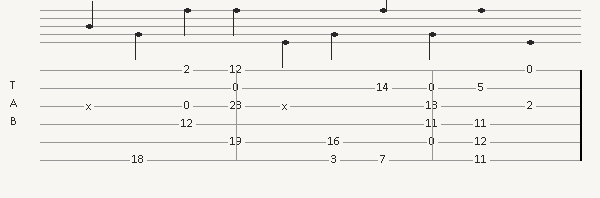0: (184, 100, 194, 112), (233, 82, 243, 94), (429, 82, 439, 94), (429, 136, 439, 148), (527, 64, 537, 76)
11: (426, 118, 442, 130), (475, 118, 491, 130), (475, 154, 491, 166)
12: (181, 118, 197, 130), (230, 64, 246, 76), (475, 136, 491, 148)
13: (426, 100, 442, 112)
14: (377, 82, 393, 94)
16: (328, 136, 344, 148)
18: (132, 154, 148, 166)
19: (230, 136, 246, 148)
2: (184, 64, 194, 76), (527, 100, 537, 112)
23: (230, 100, 246, 112)
3: (331, 154, 341, 166)
5: (478, 82, 488, 94)
7: (380, 154, 390, 166)
x: (86, 101, 95, 111), (282, 101, 291, 111)
